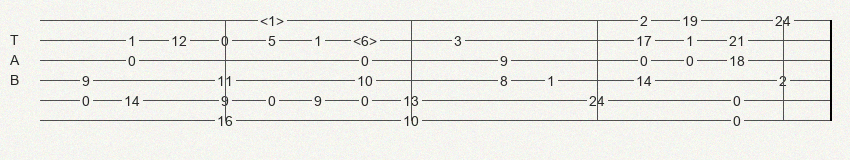0: (82, 93, 94, 107), (128, 53, 140, 67), (221, 33, 233, 47), (268, 93, 280, 107), (361, 53, 373, 67), (361, 93, 373, 107), (640, 53, 652, 67), (686, 53, 698, 67), (733, 113, 745, 127), (733, 93, 745, 107)
1: (128, 33, 140, 47), (314, 33, 326, 47), (547, 73, 559, 87), (686, 33, 698, 47)
10: (357, 73, 377, 87), (403, 113, 423, 127)
11: (217, 73, 237, 87)
12: (171, 33, 191, 47)
13: (403, 93, 423, 107)
14: (124, 93, 144, 107), (636, 73, 656, 87)
16: (217, 113, 237, 127)
17: (636, 33, 656, 47)
18: (729, 53, 749, 67)
19: (682, 13, 702, 27)
2: (640, 13, 652, 27), (779, 73, 791, 87)
21: (729, 33, 749, 47)
24: (589, 93, 609, 107), (775, 13, 795, 27)
3: (454, 33, 466, 47)
5: (268, 33, 280, 47)
8: (500, 73, 512, 87)
9: (82, 73, 94, 87), (221, 93, 233, 107), (314, 93, 326, 107), (500, 53, 512, 67)
harmonic: (260, 13, 288, 27), (353, 33, 381, 47)
